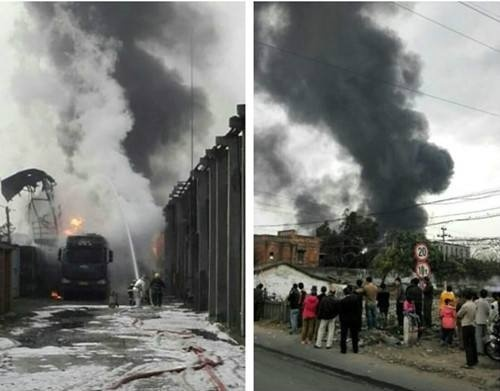fire: (63, 214, 85, 236)
